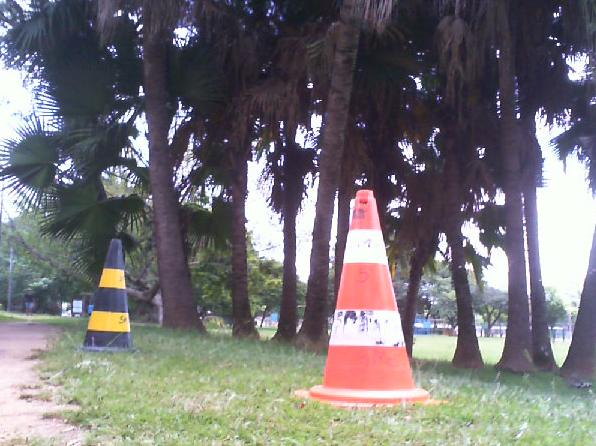0 cone: (293, 190, 447, 408), (80, 239, 139, 353)
